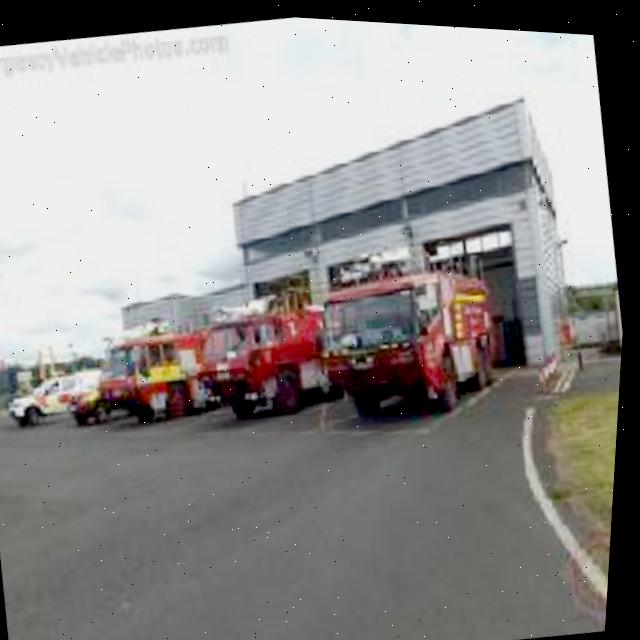emergency: (325, 260, 498, 421), (196, 286, 314, 419), (4, 360, 115, 440), (96, 322, 181, 416)
